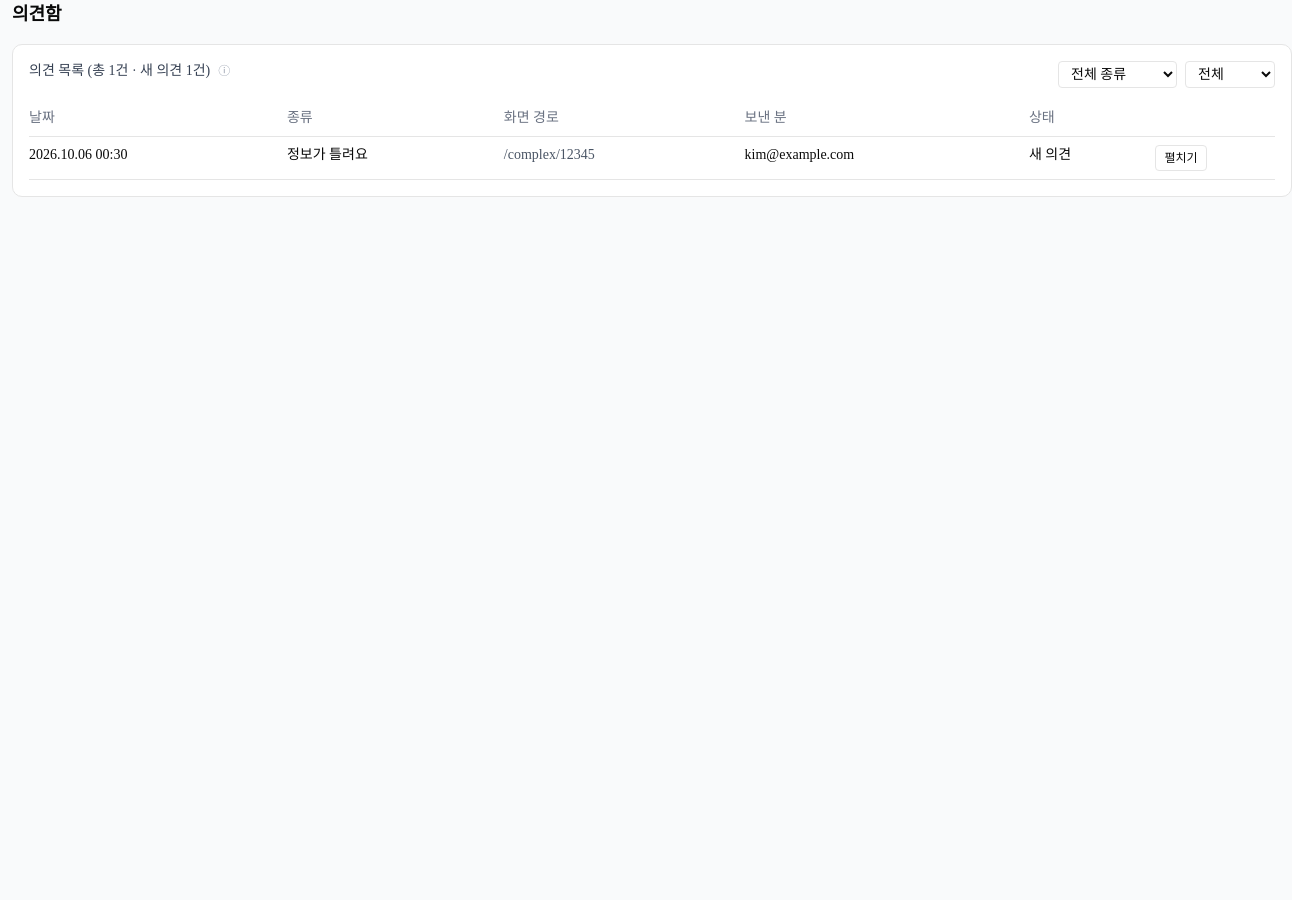
Test: /admin/opinions 공개·상태·지우기 › 상태를 바꾸면 바로 저장한다
Click the button "펼치기". click: (1181, 158)
box: [1156,145,1207,171]
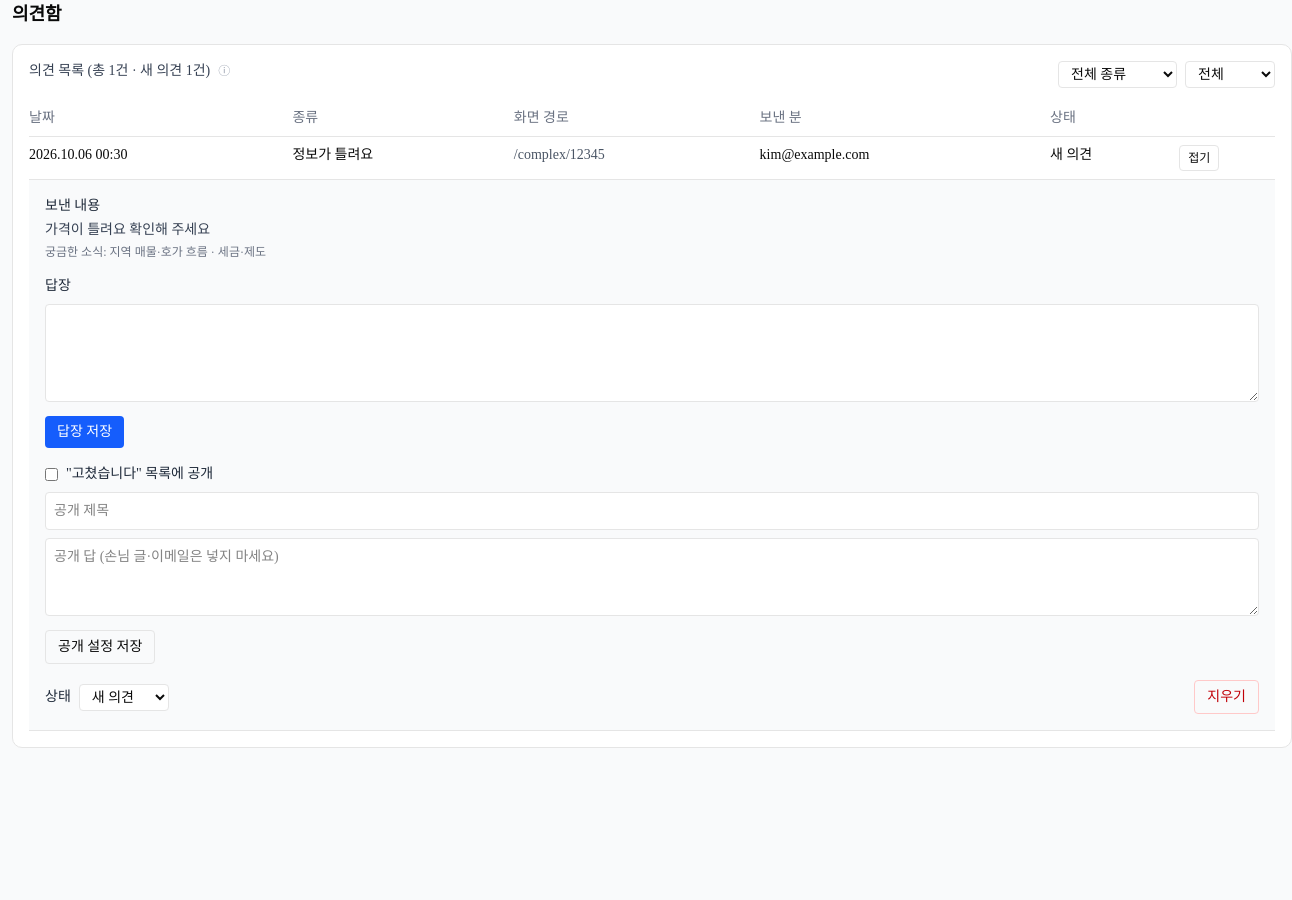
Select "고쳤어요" in the dropdown named "상태 바꾸기". click: (124, 697)
box: [79,684,169,710]
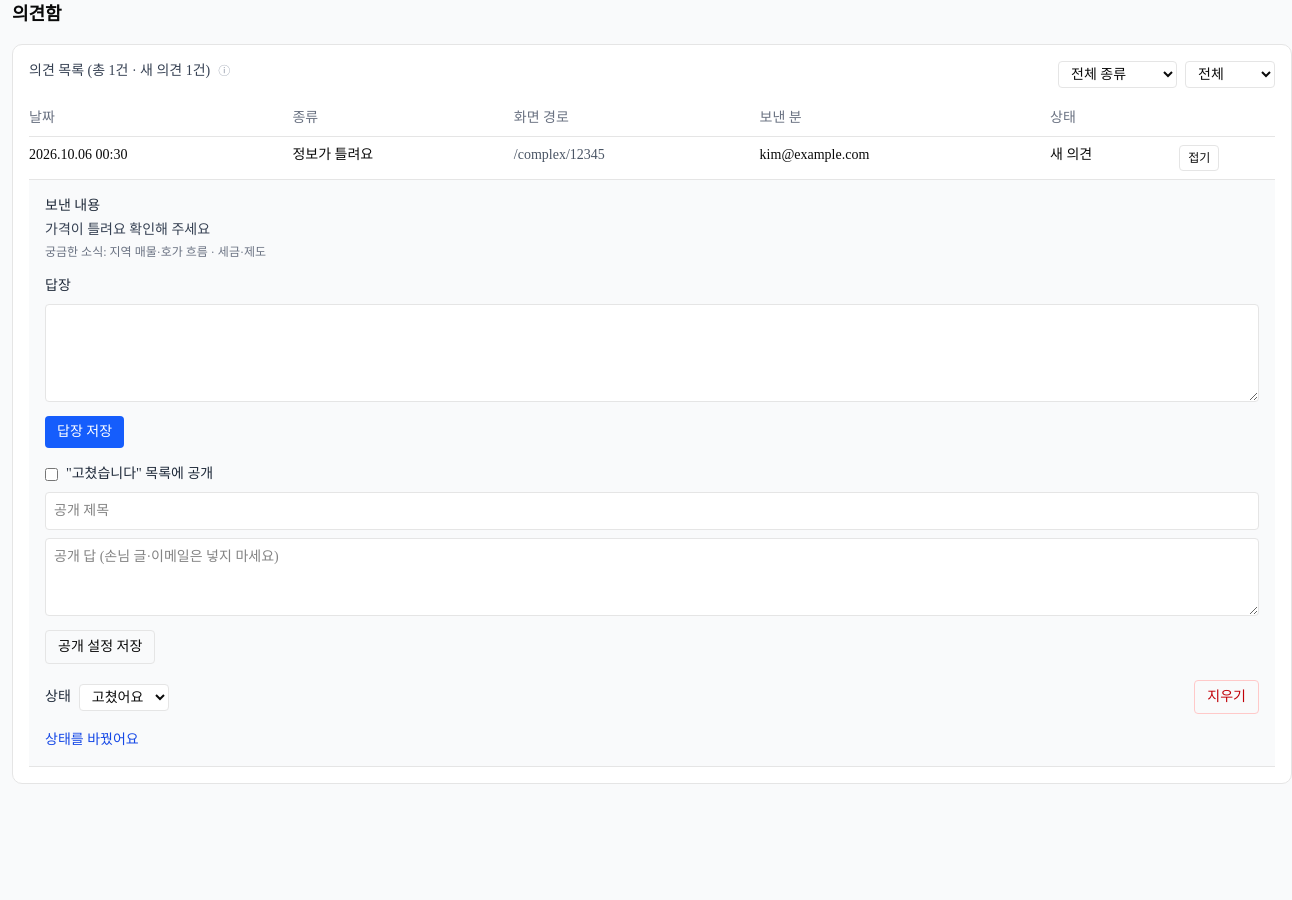
Expected: the text "상태를 바꿨어요" is shown, [45,732,139,747]
